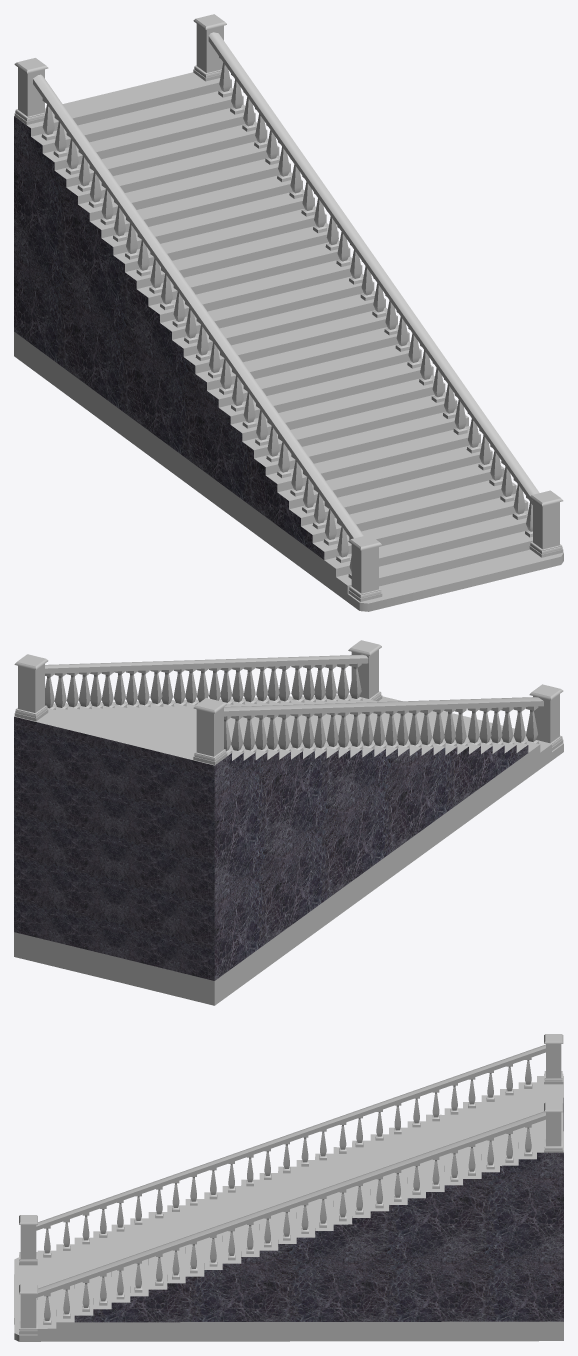
The model's file is Stairs.FBX.
The picture shows the model from 3 angles, top to bottom: view 1: azimuth 30°, elevation 25°; view 2: azimuth 150°, elevation 25°; view 3: azimuth 270°, elevation 25°; orthographic projection. The views are drawn at different scales.
Visible parts, largest first — view 1: Stairs; view 2: Stairs; view 3: Stairs.
Part boxes in pixels (left/top/right/bottom): Stairs: left=14, top=14, right=563, bottom=611; Stairs: left=14, top=640, right=563, bottom=1005; Stairs: left=14, top=1034, right=563, bottom=1341.
Bounding box in the file's own units: 4 × 5.51 × 11.9.
